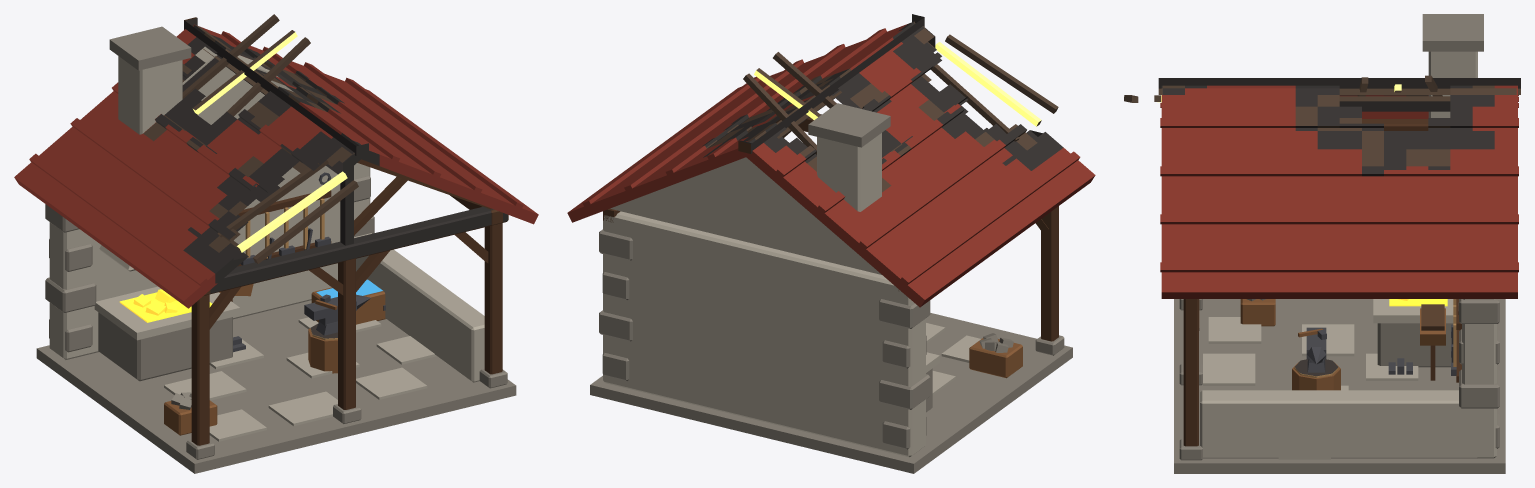
Rendered from Schmiede_Beschaedigt.fbx.
The picture shows the model from 3 angles, left to right: view 1: azimuth 30°, elevation 25°; view 2: azimuth 150°, elevation 25°; view 3: azimuth 270°, elevation 25°; orthographic projection. The views are drawn at different scales.
Parts seen in each view (by area): view 1: Schmiede_Beschaedigt; view 2: Schmiede_Beschaedigt; view 3: Schmiede_Beschaedigt.
Part boxes in pixels (left/top/right/bottom): Schmiede_Beschaedigt: left=14, top=14, right=538, bottom=473; Schmiede_Beschaedigt: left=567, top=14, right=1095, bottom=473; Schmiede_Beschaedigt: left=1124, top=14, right=1520, bottom=473.
Size of the model in its own units: 7.4 by 6.39 by 6.81.
